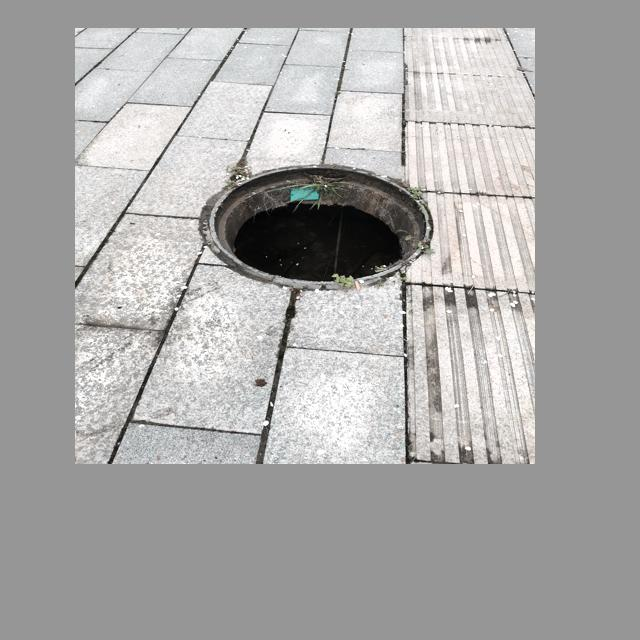lose: (207, 162, 432, 288)
